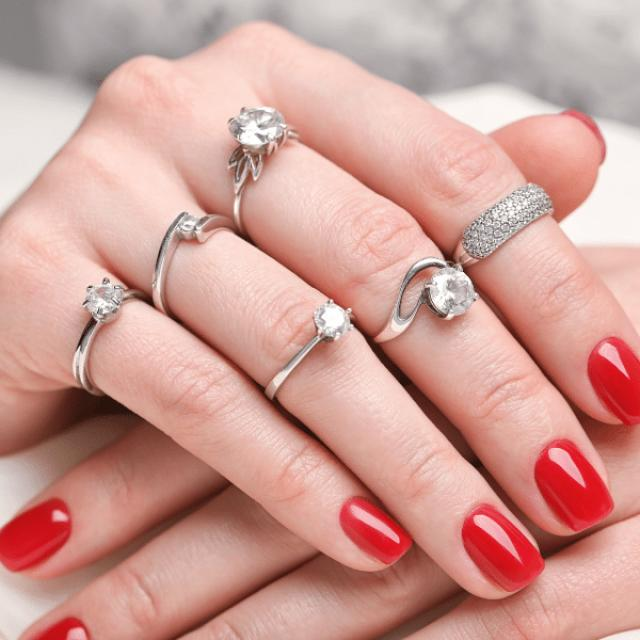Ring: (445, 161, 587, 275), (251, 298, 379, 413), (367, 239, 484, 359), (49, 270, 159, 385), (208, 95, 317, 204), (135, 193, 236, 307)
